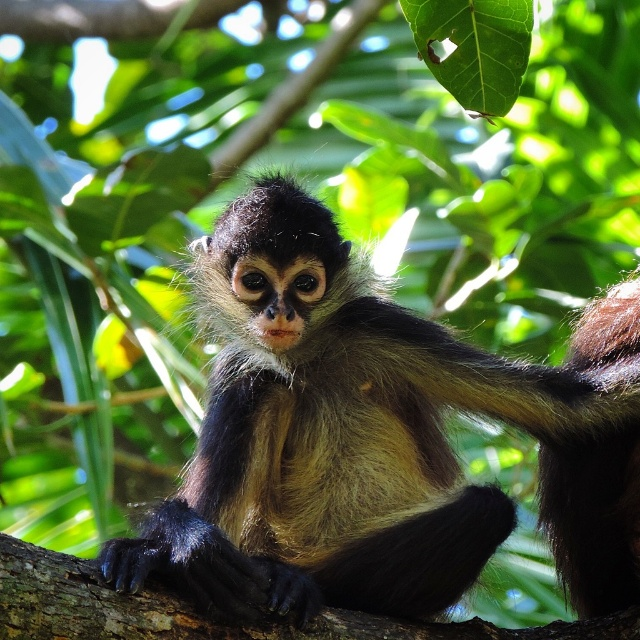Monkey: (92, 141, 640, 632)
